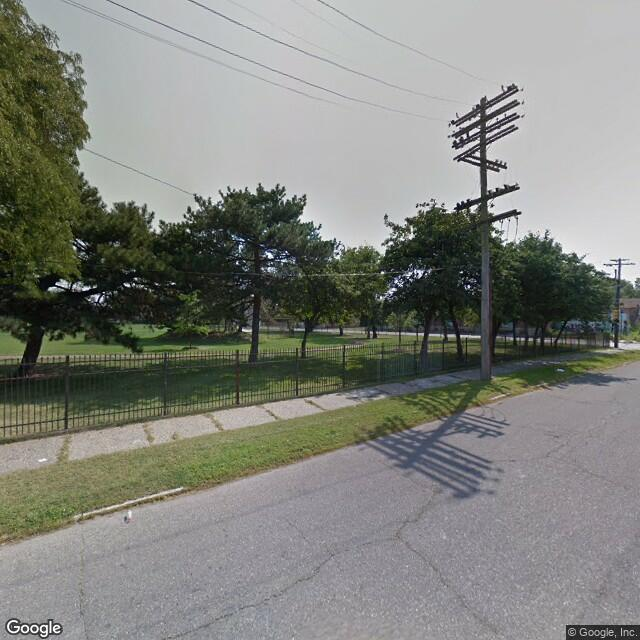litter: (37, 455, 47, 464), (557, 367, 567, 376)
